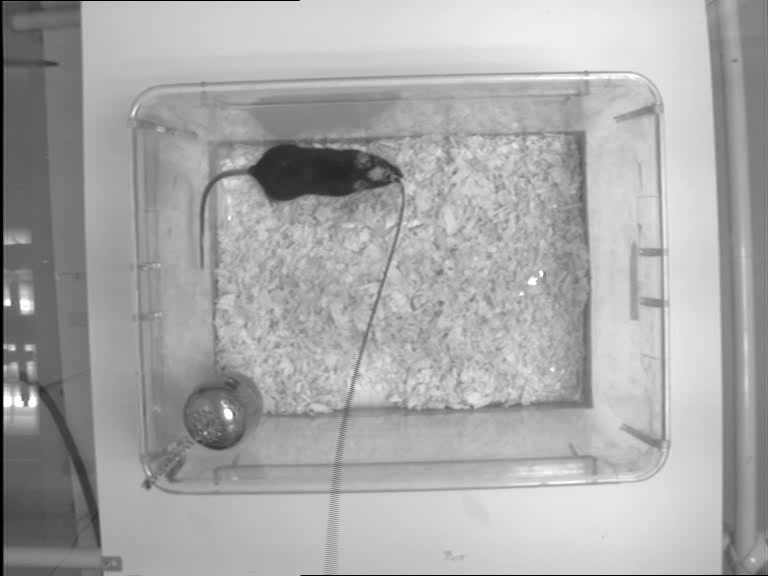mice: (196, 143, 408, 272)
